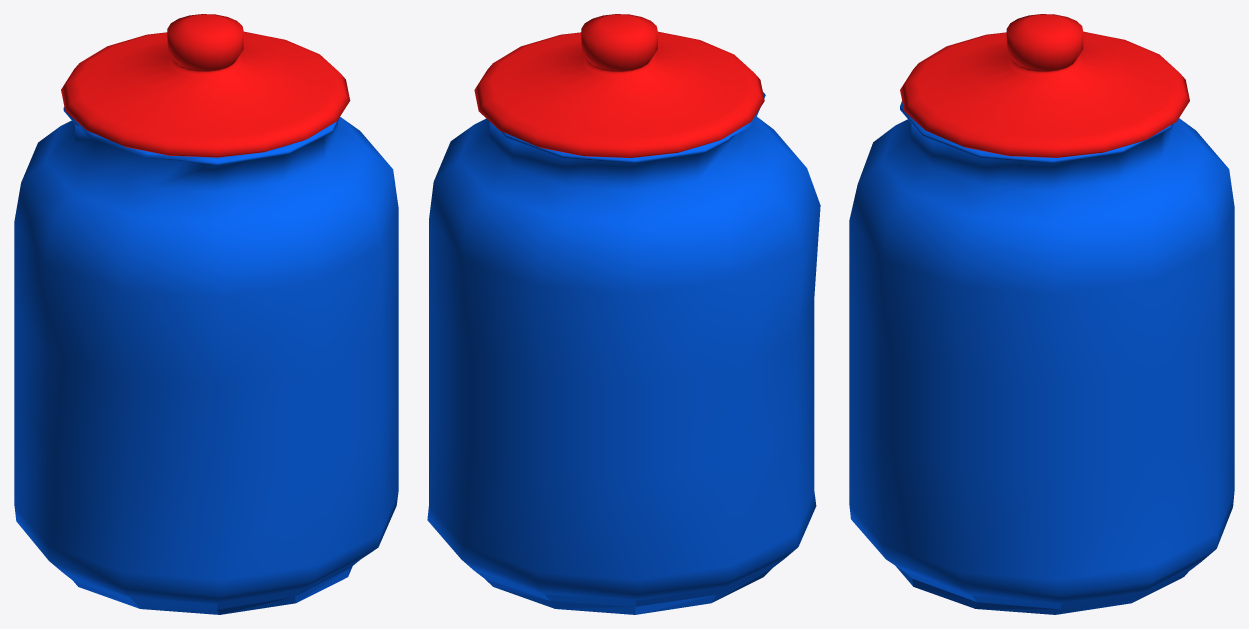
Rendered from BigJar.fbx.
The picture shows the model from 3 angles, left to right: view 1: azimuth 30°, elevation 25°; view 2: azimuth 150°, elevation 25°; view 3: azimuth 270°, elevation 25°; orthographic projection.
Parts seen in each view (by area): view 1: Big Jar, JarLid; view 2: Big Jar, JarLid; view 3: Big Jar, JarLid.
Boxes of the visible parts, x1=… form: Big Jar: x1=14, y1=107, x2=398, y2=614; JarLid: x1=61, y1=14, x2=350, y2=157; Big Jar: x1=427, y1=92, x2=820, y2=614; JarLid: x1=474, y1=14, x2=764, y2=157; Big Jar: x1=849, y1=101, x2=1234, y2=614; JarLid: x1=900, y1=14, x2=1189, y2=157.
Bounding box in the file's own units: 7.51 × 11.14 × 7.39.
